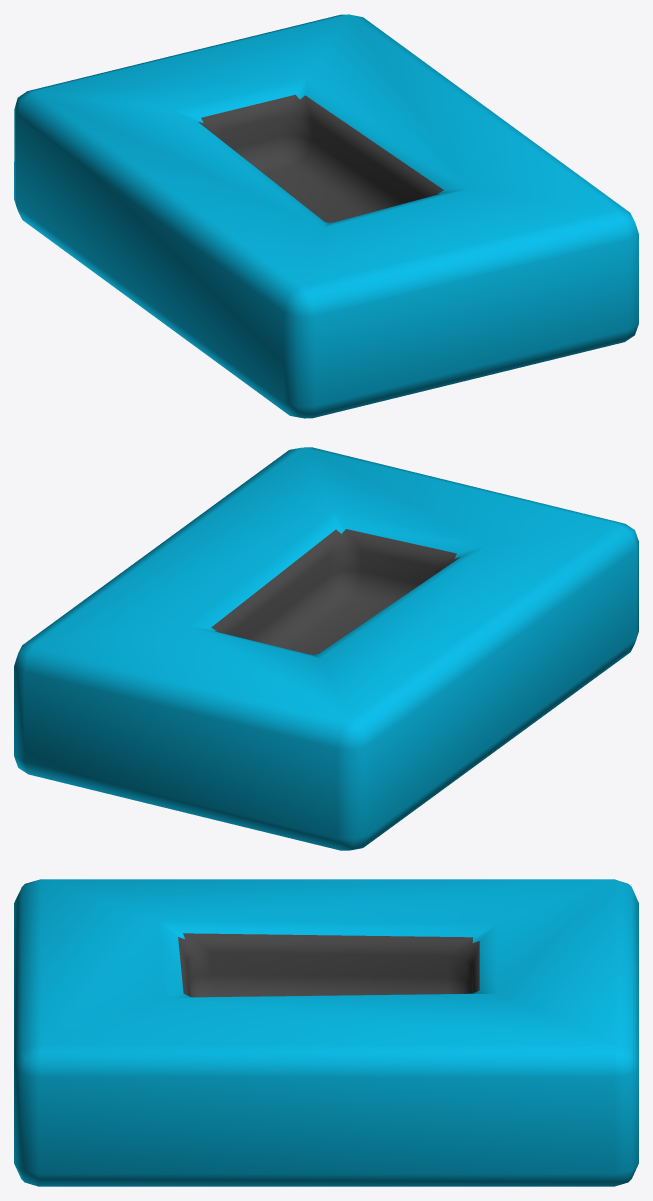
The model's file is pause.glb.
3 views of the same model, one above another, from view 1: azimuth 30°, elevation 25°; view 2: azimuth 150°, elevation 25°; view 3: azimuth 270°, elevation 25° (orthographic). The views are drawn at different scales.
Visible parts, largest first — view 1: Cube; view 2: Cube; view 3: Cube.
Part boxes in pixels (x1,y1,x2,y2): Cube: [14, 14, 638, 418]; Cube: [14, 447, 638, 850]; Cube: [14, 879, 638, 1186].
Bounding box in the file's own units: 0.35 × 0.125 × 0.5.
